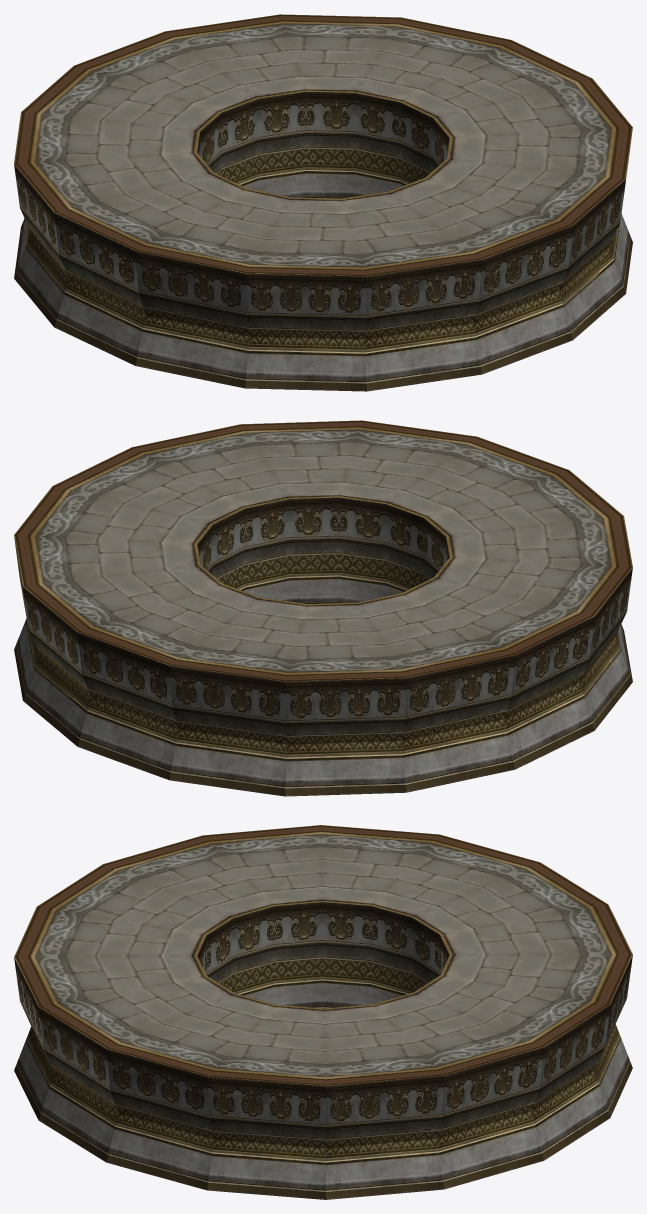
The model's file is THL_2.fbx.
3 renders of one model, top to bottom at view 1: azimuth 30°, elevation 25°; view 2: azimuth 150°, elevation 25°; view 3: azimuth 270°, elevation 25°, orthographic.
Visible parts, largest first — view 1: polySurface178; view 2: polySurface178; view 3: polySurface178.
Part boxes in pixels (x1,y1,x2,y2): polySurface178: [14, 14, 632, 391]; polySurface178: [14, 420, 632, 796]; polySurface178: [14, 825, 632, 1199].
Size of the model in its own units: 23.09 by 4.71 by 23.11.
